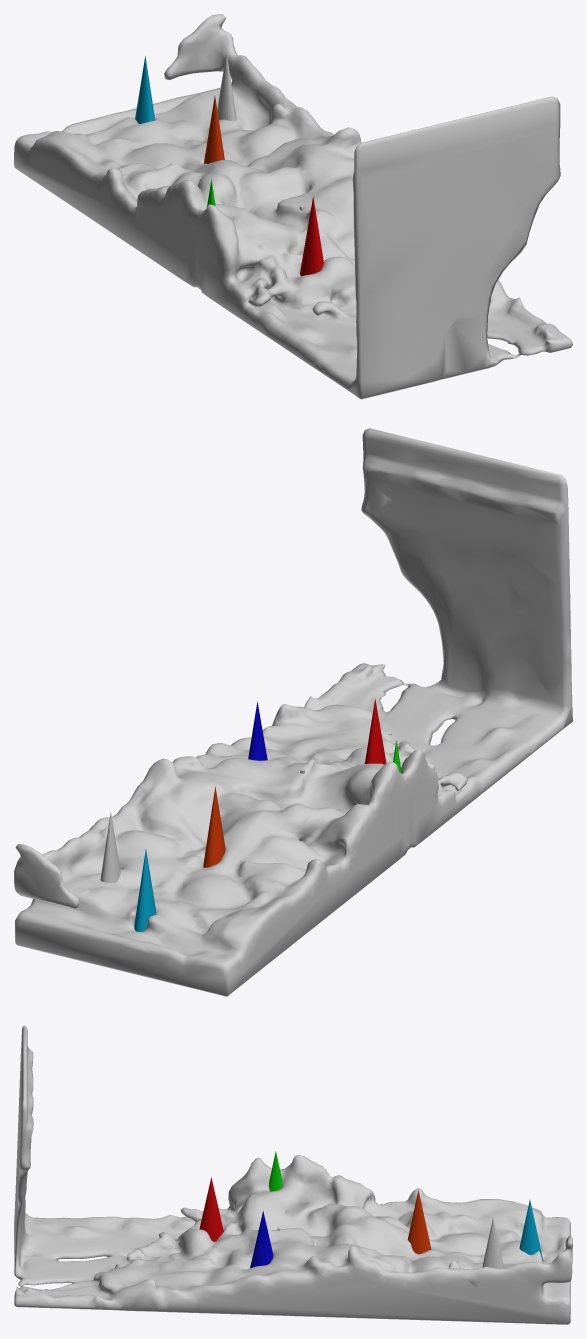
3 views of the same model, one above another, from view 1: azimuth 30°, elevation 25°; view 2: azimuth 150°, elevation 25°; view 3: azimuth 270°, elevation 25° (orthographic). The views are drawn at different scales.
Parts seen in each view (by area): view 1: Liquid_Domain, 円錐.001, 円錐, 円錐.004, 円錐.005; view 2: Liquid_Domain, 円錐.004, 円錐.005, 円錐, 円錐.001; view 3: Liquid_Domain, 円錐.004, 円錐.001, 円錐.002, 円錐.005, 円錐.
Boxes of the visible parts, left/top/right/bottom form: Liquid_Domain: left=14, top=14, right=572, bottom=399; 円錐.001: left=300, top=197, right=323, bottom=276; 円錐: left=217, top=53, right=236, bottom=121; 円錐.004: left=203, top=96, right=224, bottom=163; 円錐.005: left=135, top=56, right=154, bottom=123; Liquid_Domain: left=14, top=428, right=572, bottom=996; 円錐.004: left=203, top=786, right=225, bottom=867; 円錐.005: left=134, top=849, right=155, bottom=931; 円錐: left=100, top=811, right=120, bottom=882; 円錐.001: left=364, top=699, right=386, bottom=764; Liquid_Domain: left=14, top=1025, right=572, bottom=1324; 円錐.004: left=407, top=1190, right=431, bottom=1254; 円錐.001: left=199, top=1177, right=223, bottom=1241; 円錐.002: left=250, top=1211, right=273, bottom=1268; 円錐.005: left=519, top=1200, right=543, bottom=1261; 円錐: left=482, top=1217, right=504, bottom=1268.
Bounding box in the file's own units: 129 × 158 × 363.
